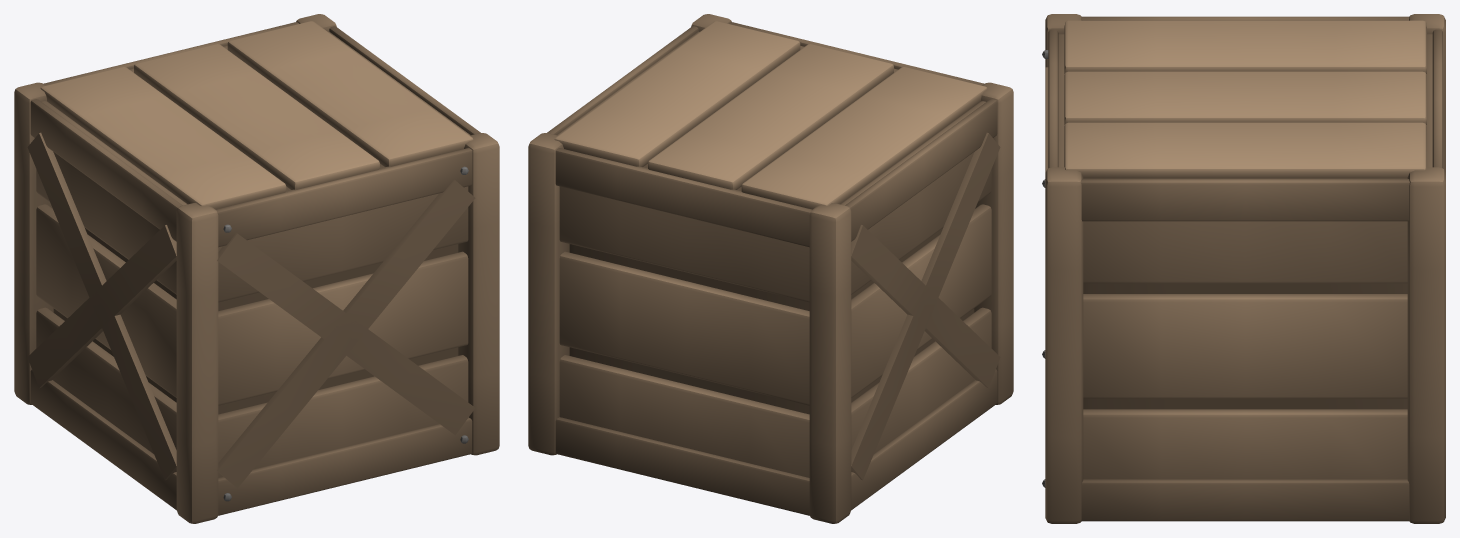
File: obj_kit_crate.glb
3 views of the same model, side by side, from view 1: azimuth 30°, elevation 25°; view 2: azimuth 150°, elevation 25°; view 3: azimuth 270°, elevation 25° (orthographic). The views are drawn at different scales.
Parts seen in each view (by area): view 1: Cube.005, Cube.018, Cube.019, Cube.017, Cube.013, Cube.028, Cube.001, Cube.015, Cube.030, Cube.024, Cube.020, Cube.009 (+11 smaller); view 2: Cube.006, Cube.002, Cube.018, Cube.019, Cube.017, Cube.010, Cube.014, Cube.016, Cube.025, Cube.021, Cube.007, Cube.029 (+9 smaller); view 3: Cube.008, Cube.004, Cube.012, Cube.019, Cube.018, Cube.017, Cube.027, Cube.023, Cube.015, Cube.016, Cube, Cube.026 (+6 smaller).
Part boxes in pixels (left/top/right/bottom): Cube.005: left=218, top=251, right=468, bottom=405; Cube.018: left=134, top=44, right=379, bottom=189; Cube.019: left=227, top=21, right=473, bottom=166; Cube.017: left=40, top=67, right=286, bottom=209; Cube.013: left=176, top=203, right=218, bottom=523; Cube.028: left=217, top=179, right=475, bottom=488; Cube.001: left=218, top=355, right=468, bottom=477; Cube.015: left=458, top=133, right=499, bottom=455; Cube.030: left=217, top=233, right=475, bottom=435; Cube.024: left=216, top=148, right=472, bottom=247; Cube.020: left=218, top=417, right=472, bottom=515; Cube.009: left=218, top=166, right=468, bottom=302; Cube.006: left=559, top=251, right=809, bottom=405; Cube.002: left=559, top=355, right=809, bottom=477; Cube.018: left=648, top=44, right=893, bottom=189; Cube.019: left=554, top=21, right=800, bottom=166; Cube.017: left=741, top=67, right=987, bottom=209; Cube.010: left=559, top=166, right=809, bottom=302; Cube.014: left=809, top=203, right=851, bottom=523; Cube.016: left=528, top=133, right=569, bottom=455; Cube.025: left=555, top=148, right=811, bottom=247; Cube.021: left=555, top=417, right=809, bottom=515; Cube.007: left=851, top=204, right=991, bottom=397; Cube.029: left=851, top=132, right=1000, bottom=480; Cube.008: left=1083, top=294, right=1407, bottom=398; Cube.004: left=1083, top=409, right=1407, bottom=479; Cube.012: left=1083, top=178, right=1407, bottom=283; Cube.019: left=1064, top=122, right=1426, bottom=178; Cube.018: left=1064, top=71, right=1426, bottom=124; Cube.017: left=1064, top=20, right=1426, bottom=73; Cube.027: left=1081, top=179, right=1409, bottom=221; Cube.023: left=1081, top=479, right=1409, bottom=521; Cube.015: left=1045, top=167, right=1083, bottom=523; Cube.016: left=1407, top=167, right=1445, bottom=523; Cube: left=1083, top=283, right=1407, bottom=409; Cube.026: left=1081, top=16, right=1409, bottom=20.
Bounding box in the file's own units: 0.63 × 0.604 × 0.635.
